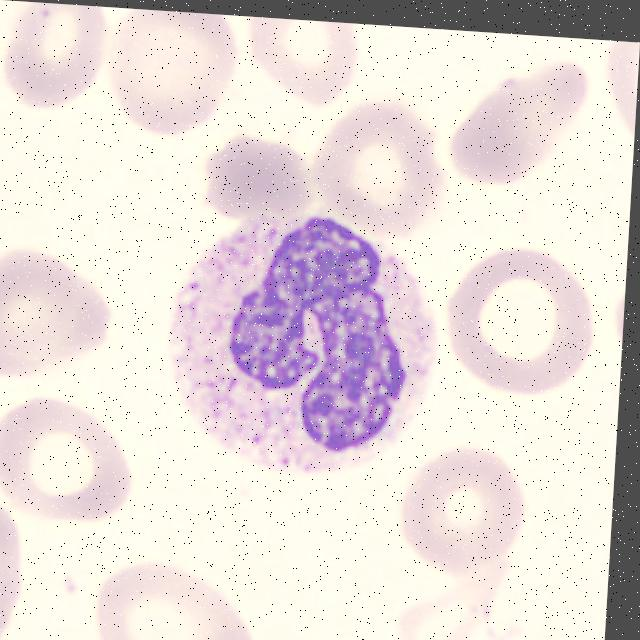neutrophil: (162, 197, 442, 488)
rbc: (448, 242, 602, 395), (0, 394, 140, 521), (455, 64, 585, 198), (401, 445, 537, 572), (113, 8, 243, 140), (314, 101, 448, 229), (0, 258, 115, 378), (95, 558, 256, 640), (3, 1, 121, 112), (201, 140, 332, 229), (394, 567, 520, 640), (253, 17, 353, 104), (0, 509, 29, 640), (606, 41, 640, 140), (273, 636, 370, 640)
